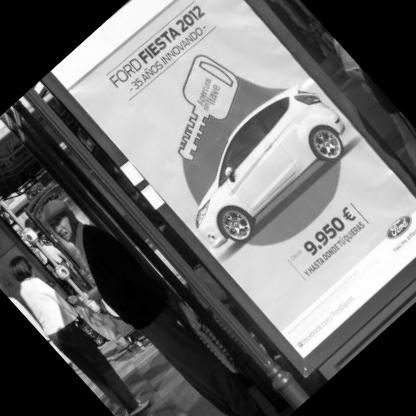car: (159, 65, 377, 277)
